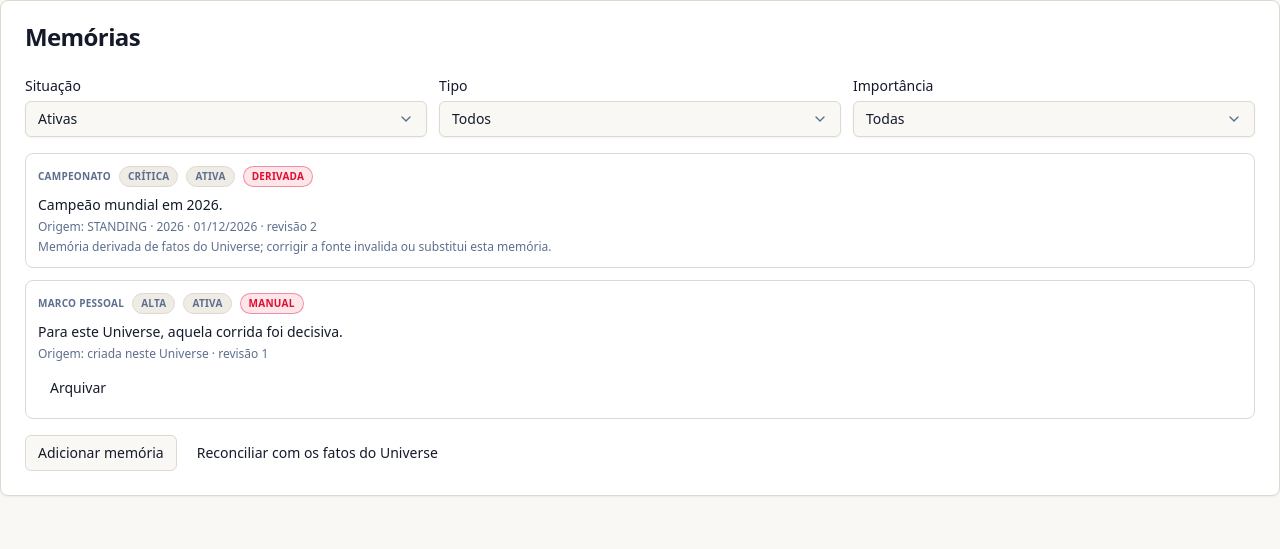
Test: pilot experience panels › 5) reconciliação mostra o resumo determinístico
Check: the text "Campeão mundial em 2026." is shown, box [38,195,222,214]
What coordinates should you click on to do the following:
click the button "Reconciliar com os fatos do Universe"
I would click on:
 (317, 453)
Its box is [185,435,450,471].
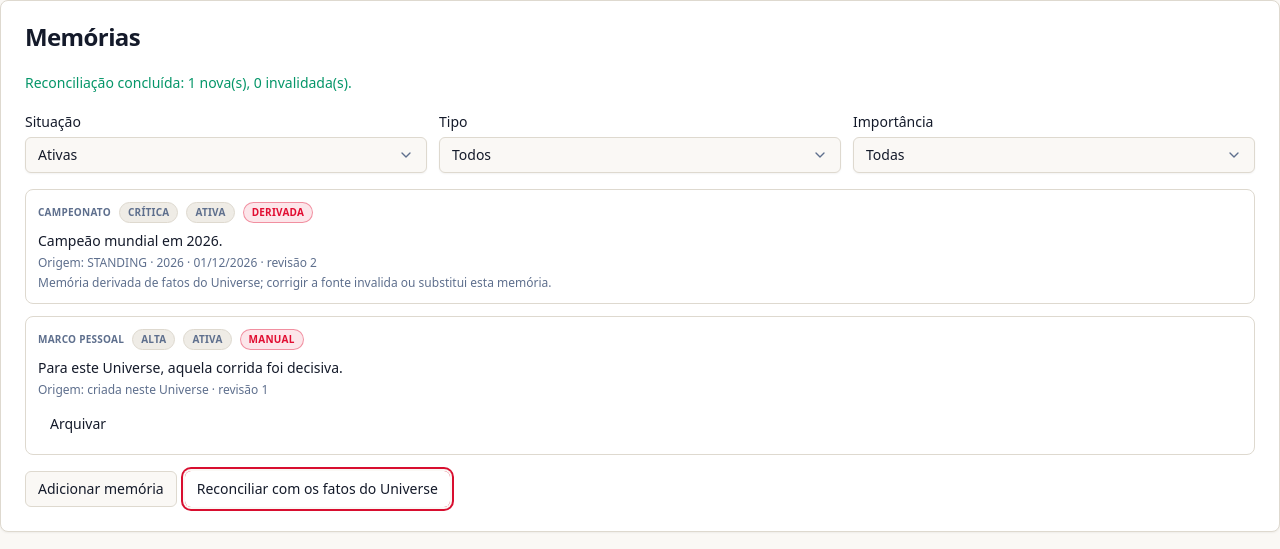
Check: the text "Reconciliação concluída: 1 nova(s), 0 invalidada(s)." is shown, box [25,73,352,92]
